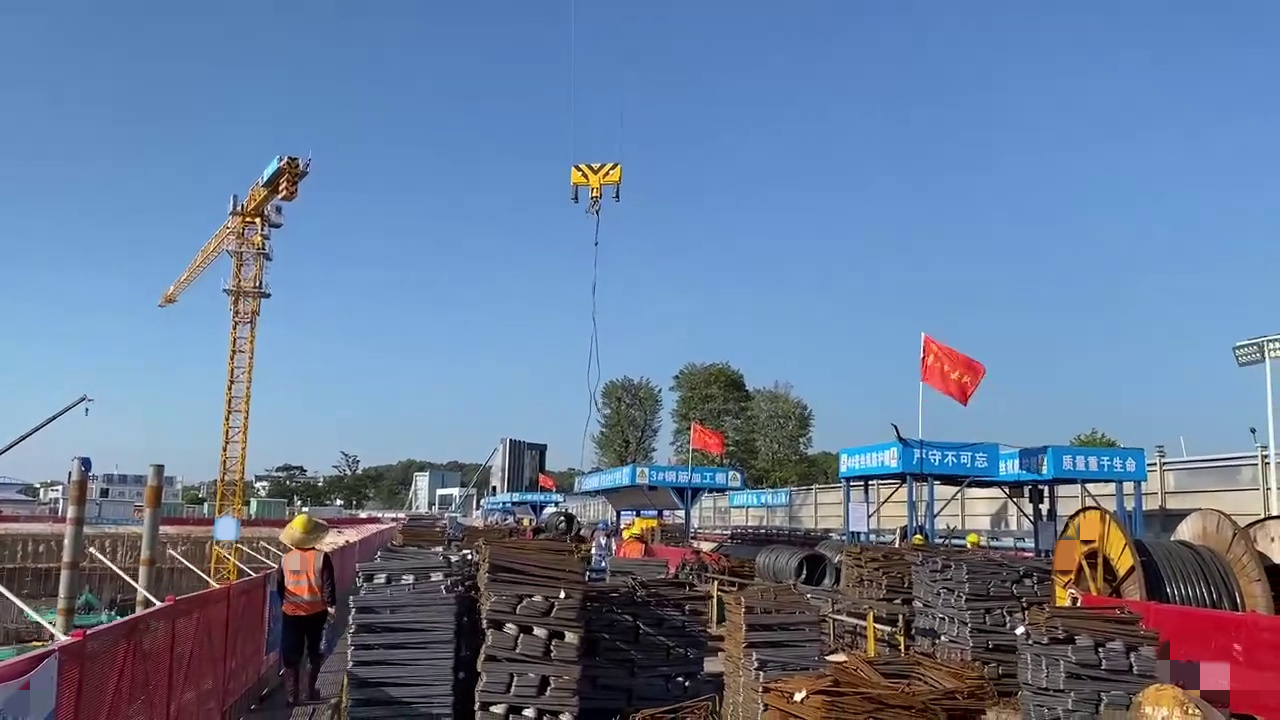fence: (3, 566, 273, 719)
helmet: (290, 513, 316, 532), (632, 527, 645, 539)
hook: (571, 157, 621, 197)
person: (274, 512, 331, 703), (618, 525, 644, 558)
rebar: (478, 527, 601, 720), (358, 548, 466, 718), (1014, 604, 1137, 720), (785, 646, 975, 720), (720, 585, 799, 720), (915, 550, 997, 662), (835, 545, 920, 633)
slogan: (898, 446, 1003, 474), (1052, 448, 1148, 473)
vest: (281, 549, 322, 616)
